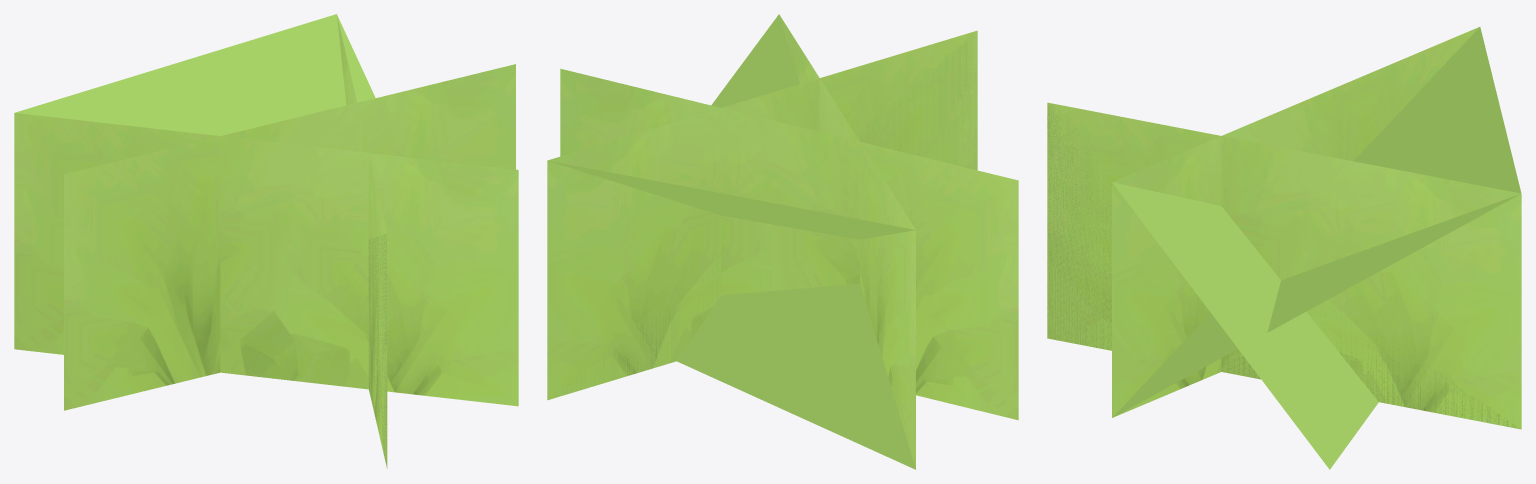
The model's file is SM_Env_Grass_Med_Clump_01.glb.
3 views of the same model, side by side, from view 1: azimuth 30°, elevation 25°; view 2: azimuth 150°, elevation 25°; view 3: azimuth 270°, elevation 25° (orthographic).
Parts seen in each view (by area): view 1: SM_Env_Grass_Med_Clump_01; view 2: SM_Env_Grass_Med_Clump_01; view 3: SM_Env_Grass_Med_Clump_01.
Part boxes in pixels (bbox=[...]): SM_Env_Grass_Med_Clump_01: bbox=[14, 14, 518, 468]; SM_Env_Grass_Med_Clump_01: bbox=[547, 14, 1018, 469]; SM_Env_Grass_Med_Clump_01: bbox=[1047, 27, 1521, 469].
Size of the model in its own units: 1 by 0.5 by 0.9104.
Materials: 1 (1 with a texture image).
